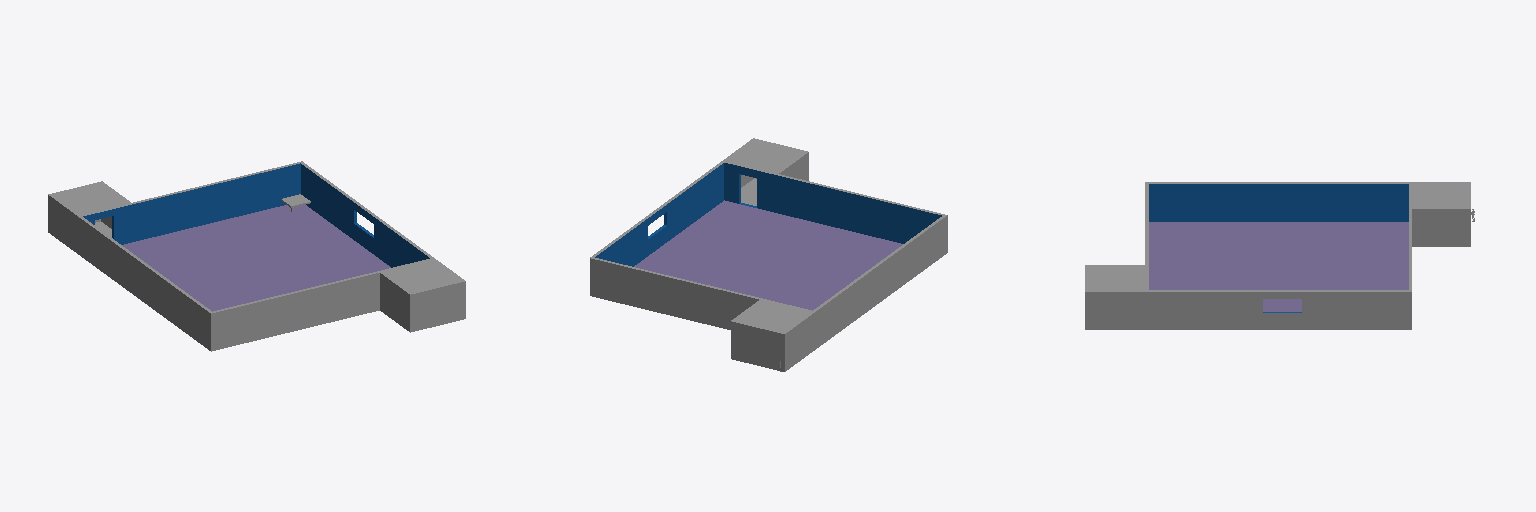
Rendered from Map.obj.
3 renders of one model, left to right at view 1: azimuth 30°, elevation 25°; view 2: azimuth 150°, elevation 25°; view 3: azimuth 270°, elevation 25°, orthographic.
Parts seen in each view (by area): view 1: Map1; view 2: Map1; view 3: Map1.
Part boxes in pixels (x1,y1,x2,y2): Map1: (48,161,465,351); Map1: (590,138,947,371); Map1: (1085,182,1474,329).
Size of the model in its own units: 32.51 by 5.24 by 48.98.